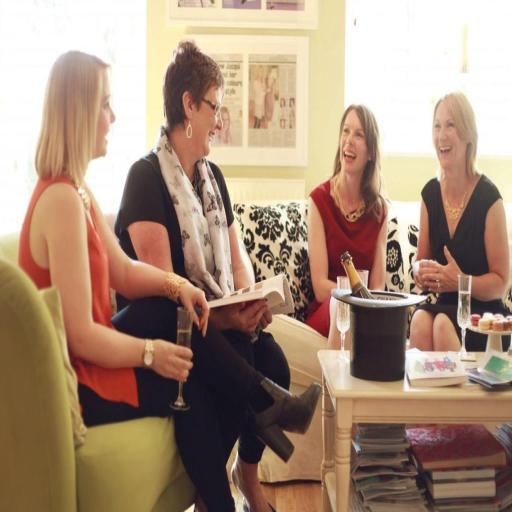person: (19, 52, 279, 510), (115, 41, 250, 298), (411, 92, 509, 351), (306, 105, 387, 348), (252, 65, 267, 128), (214, 106, 232, 144), (265, 66, 277, 122)
